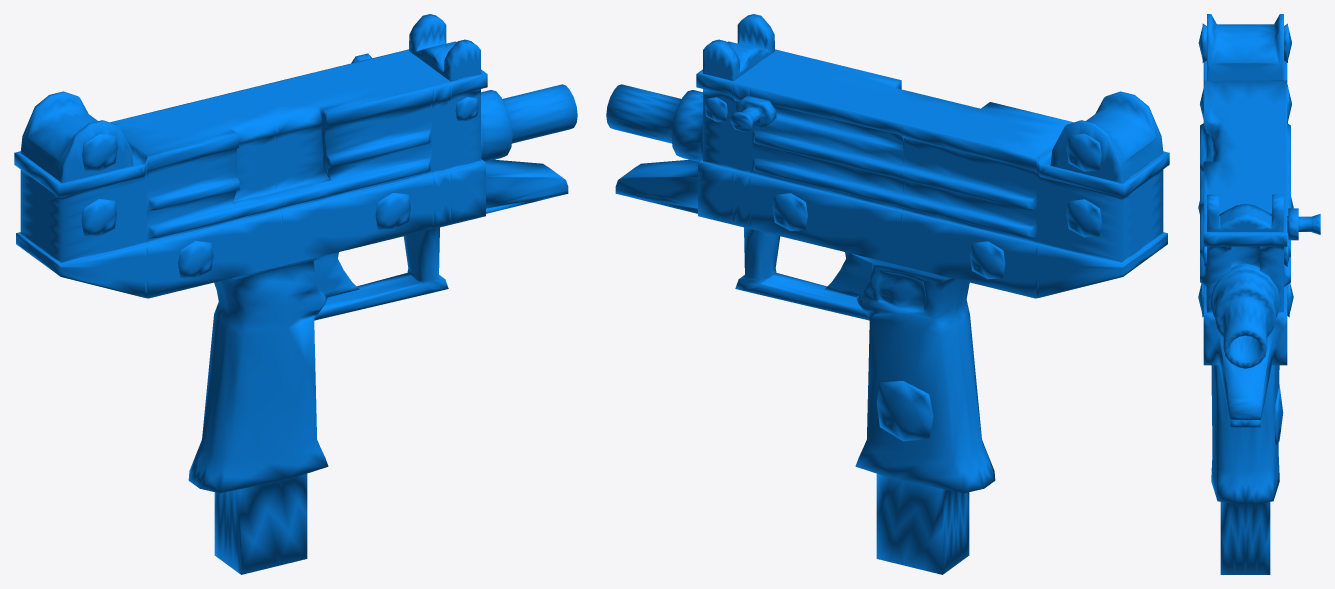
File: purple.fbx
The picture shows the model from 3 angles, left to right: view 1: azimuth 30°, elevation 25°; view 2: azimuth 150°, elevation 25°; view 3: azimuth 270°, elevation 25°; orthographic projection. The views are drawn at different scales.
Parts seen in each view (by area): view 1: smg2; view 2: smg2; view 3: smg2.
Boxes of the visible parts, x1,y1,x2,y2 form: smg2: (14,14,577,574); smg2: (606,14,1169,574); smg2: (1198,14,1320,574).
Size of the model in its own units: 197 by 176 by 42.52.
1 material, 1 textured.
